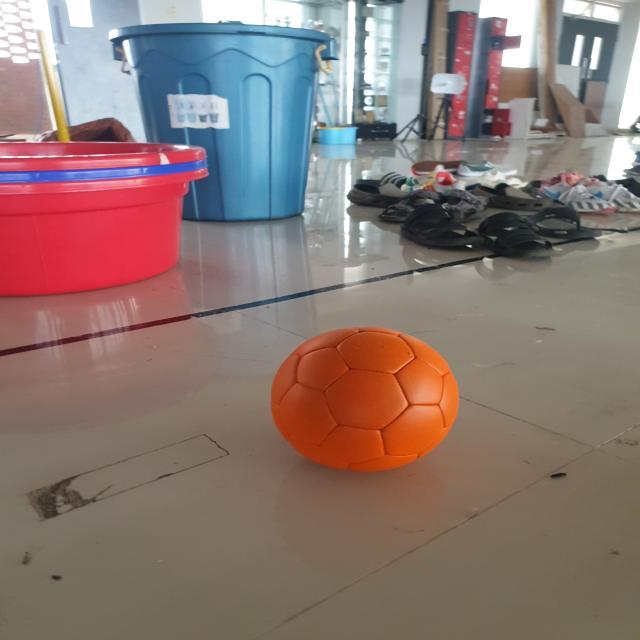bola: (264, 322, 463, 474)
